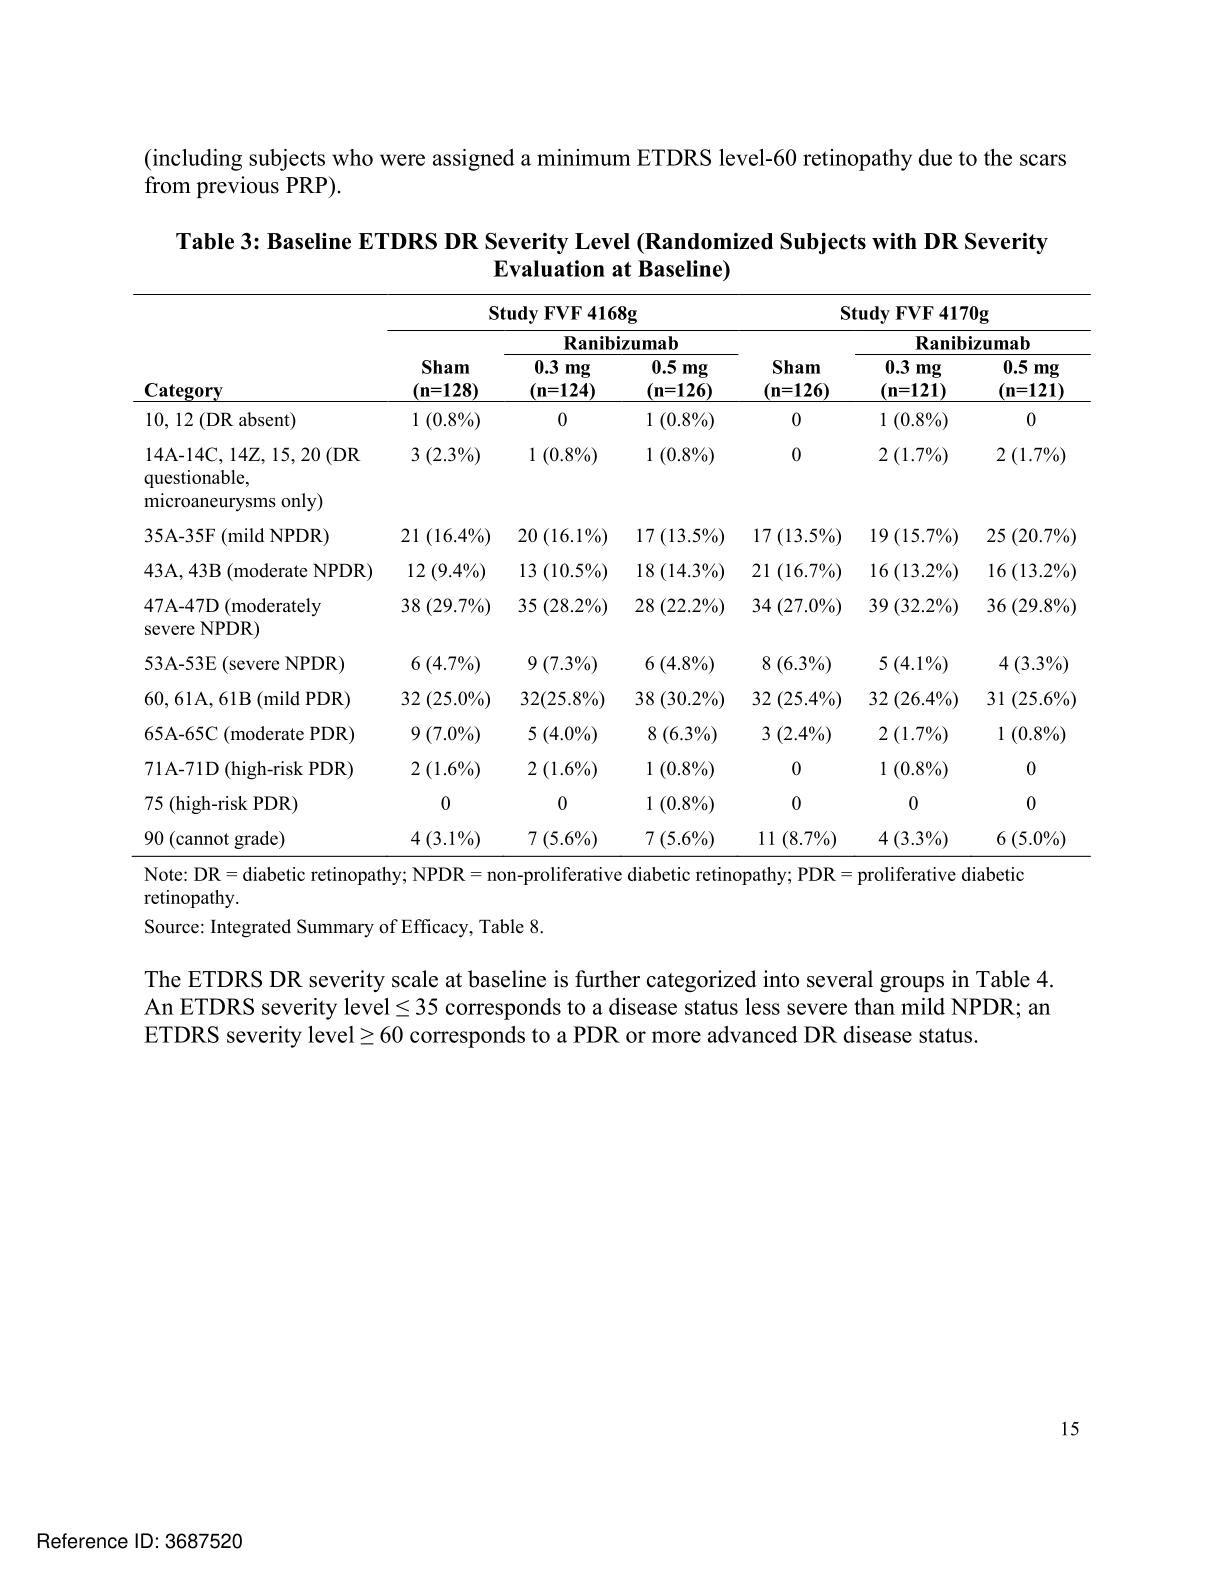partial_lined_merged_cells: (132, 291, 1094, 859)
